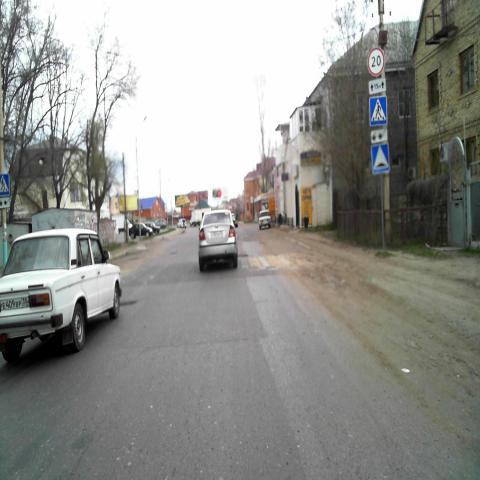3_24: (367, 47, 385, 77)
5_19_1: (370, 95, 388, 125), (0, 172, 11, 197)
5_20: (370, 143, 390, 176)
8_15: (371, 128, 388, 142), (0, 196, 11, 210)
8_2_1: (368, 77, 386, 95)
